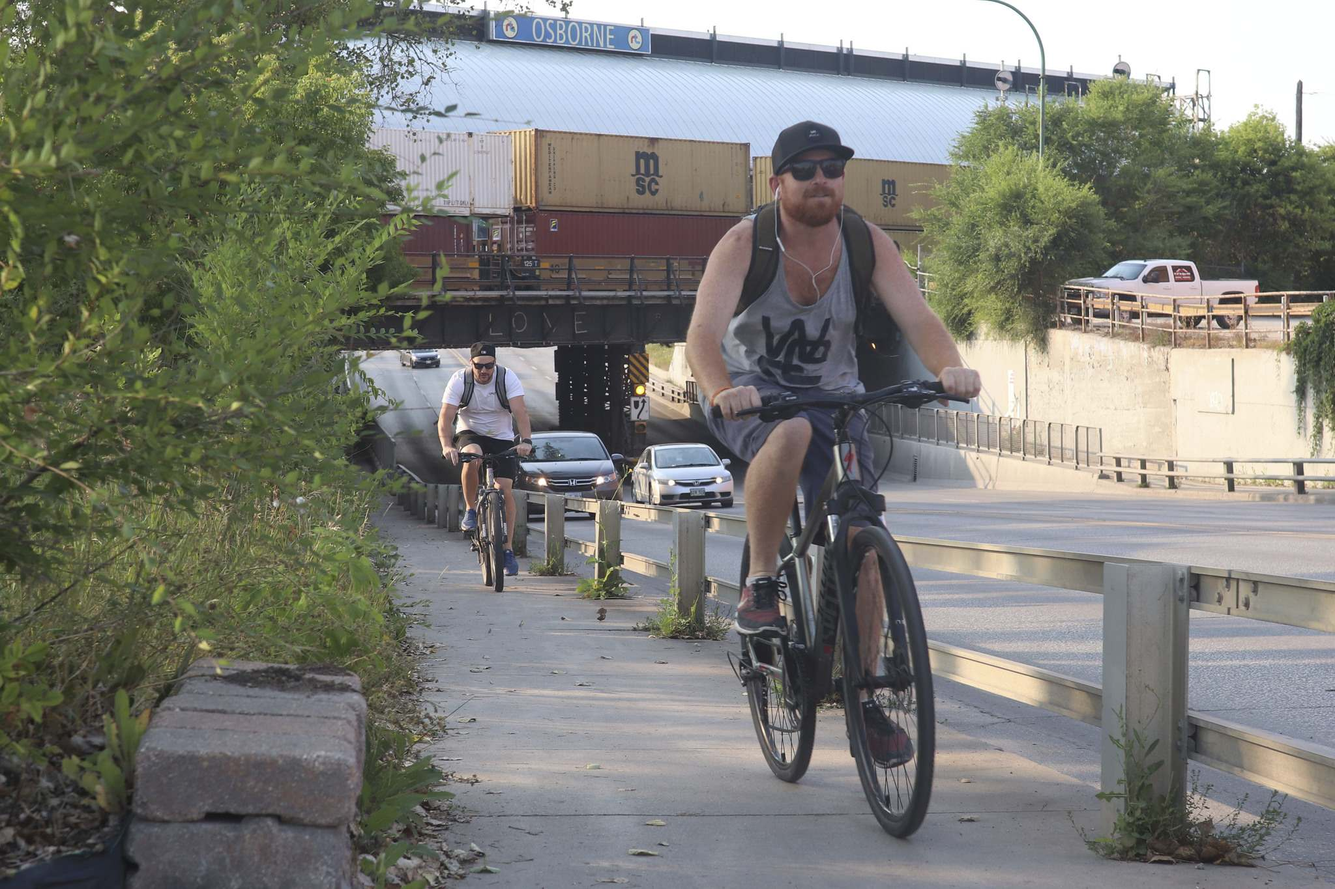Bicycle: (699, 392, 975, 835), (431, 441, 546, 584)
Car: (1066, 243, 1265, 329), (516, 421, 628, 522), (627, 438, 739, 520), (394, 335, 449, 373)
Person: (668, 118, 937, 712), (430, 337, 537, 524)
